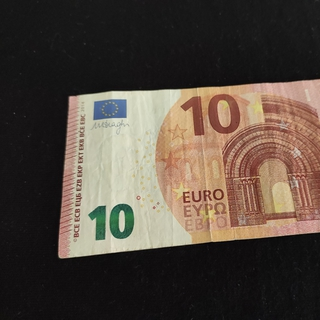10EUROFront: (57, 75, 320, 259)
